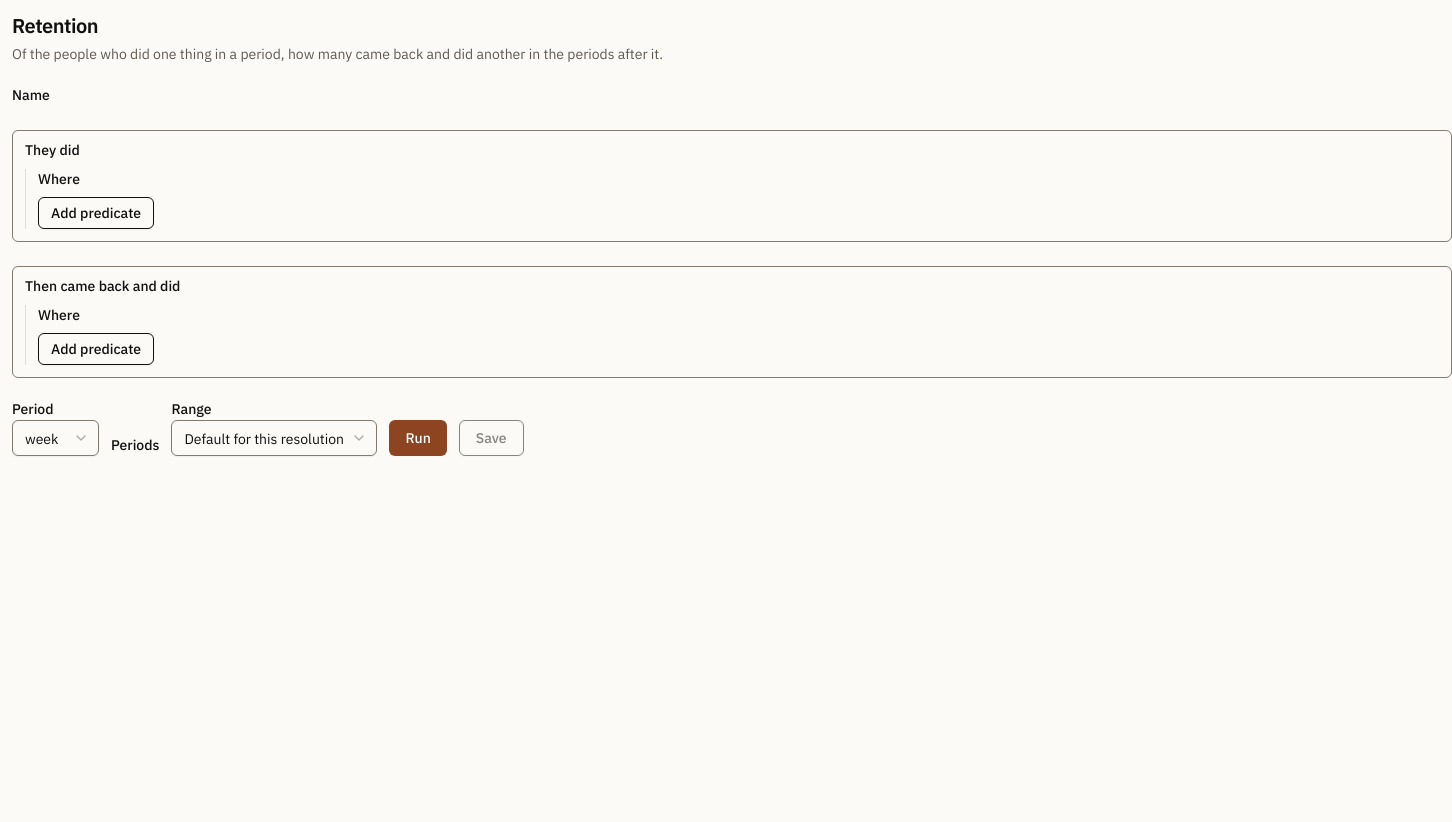
Retention › says how many cells are unmeasured, so a dash is not read as a collapse
Click the button "Run".
click(418, 438)  # box x1=389 y1=420 x2=447 y2=456
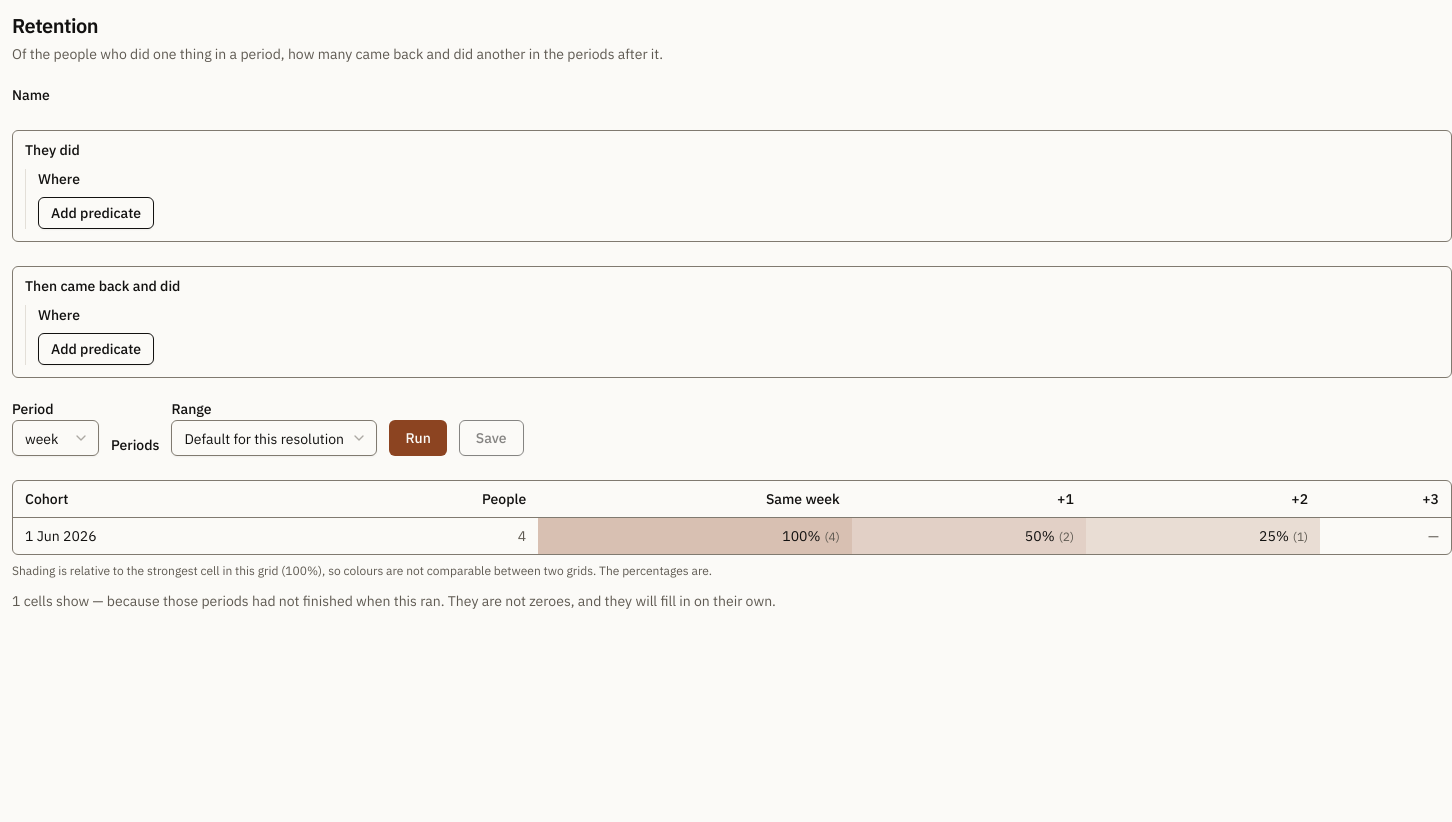
Result: the text with test id "retention-incomplete" is shown at x1=12 y1=592 x2=776 y2=610
